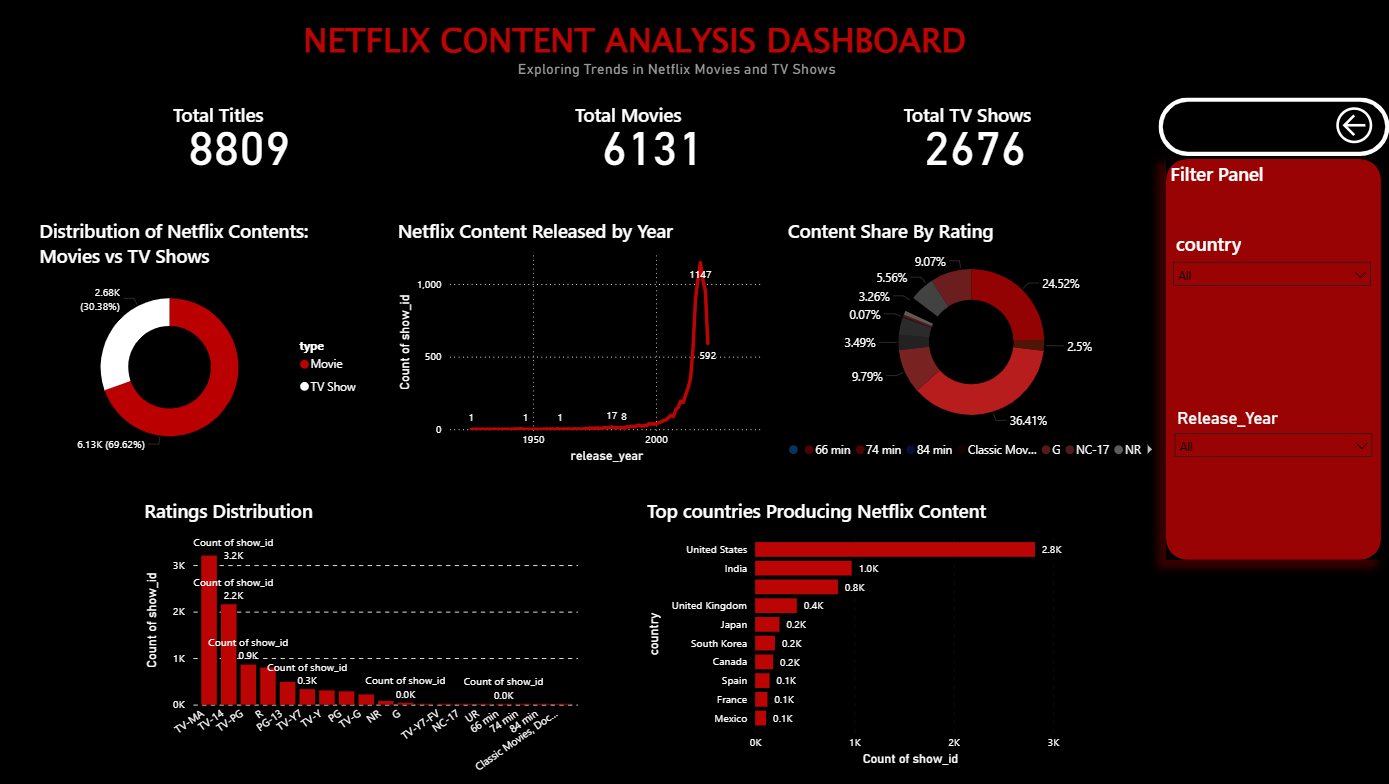

This screenshot's page, from the dashboard's own definition file:
{"tool":"powerbi","page":{"name":"Page 1","canvas":[1600,900],"ordinal":0},"visuals":[{"type":"pieChart","title":"Distribution of Netflix Contents: Movies vs TV Shows","fields":{"Category":["netflix_titles.type"],"Y":["CountNonNull(netflix_titles.type)"]},"box":[0,233.3,544.9,300.7],"z":0},{"type":"lineChart","title":"Netflix Content Released by Year","fields":{"Category":["netflix_titles.release_year"],"Y":["CountNonNull(netflix_titles.show_id)"]},"box":[568.6,233.3,544.9,300.7],"z":1000},{"type":"clusteredBarChart","title":"Top countries Producing Netflix Content","fields":{"Category":["netflix_titles.country"],"Y":["CountNonNull(netflix_titles.show_id)"]},"box":[880.2,555.8,626.9,344.4],"z":2000},{"type":"clusteredColumnChart","title":"Ratings Distribution","fields":{"Category":["netflix_titles.rating"],"Y":["CountNonNull(netflix_titles.show_id)"]},"box":[164,555.8,636,344.4],"z":3000},{"type":"textbox","box":[347.2,17.1,905,53.1],"z":4000},{"type":"card","title":"Total Titles","fields":{"Values":["CountNonNull(netflix_titles.show_id)"]},"box":[46.2,108.5,235.4,85.4],"z":5000},{"type":"card","title":"Total Movies","fields":{"Values":["CountNonNull(netflix_titles.show_id)"]},"box":[504.7,108.1,233.4,85.4],"z":6000},{"type":"card","title":"Total TV Shows","fields":{"Values":["CountNonNull(netflix_titles.show_id)"]},"box":[950.5,108.1,235.3,85.4],"z":7000},{"type":"actionButton","box":[1280,40.6,264.1,68.6],"z":9000},{"type":"actionButton","box":[1493,49.9,99.9,39.6],"z":10000},{"type":"donutChart","title":"Content Share By Rating","fields":{"Category":["netflix_titles.rating"],"Y":["CountNonNull(netflix_titles.show_id)"]},"box":[1151.7,233.3,448.3,300.7],"z":11000}]}

Visuals, with their boxes in screenshot pixels (x1, y1, x2, y2), scaled from the page's 1600x900 canvas onto the 1389x784 screenshot:
"Distribution of Netflix Contents: Movies vs TV Shows" pieChart: 0:203:473:465
"Netflix Content Released by Year" lineChart: 494:203:967:465
"Top countries Producing Netflix Content" clusteredBarChart: 764:484:1308:783
"Ratings Distribution" clusteredColumnChart: 142:484:694:783
textbox: 301:15:1087:61
"Total Titles" card: 40:95:244:169
"Total Movies" card: 438:94:641:169
"Total TV Shows" card: 825:94:1029:169
actionButton: 1111:35:1340:95
actionButton: 1296:43:1383:78
"Content Share By Rating" donutChart: 1000:203:1388:465
